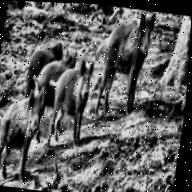boar: (94, 14, 164, 121), (45, 62, 109, 140), (0, 87, 47, 180), (36, 53, 80, 110)
